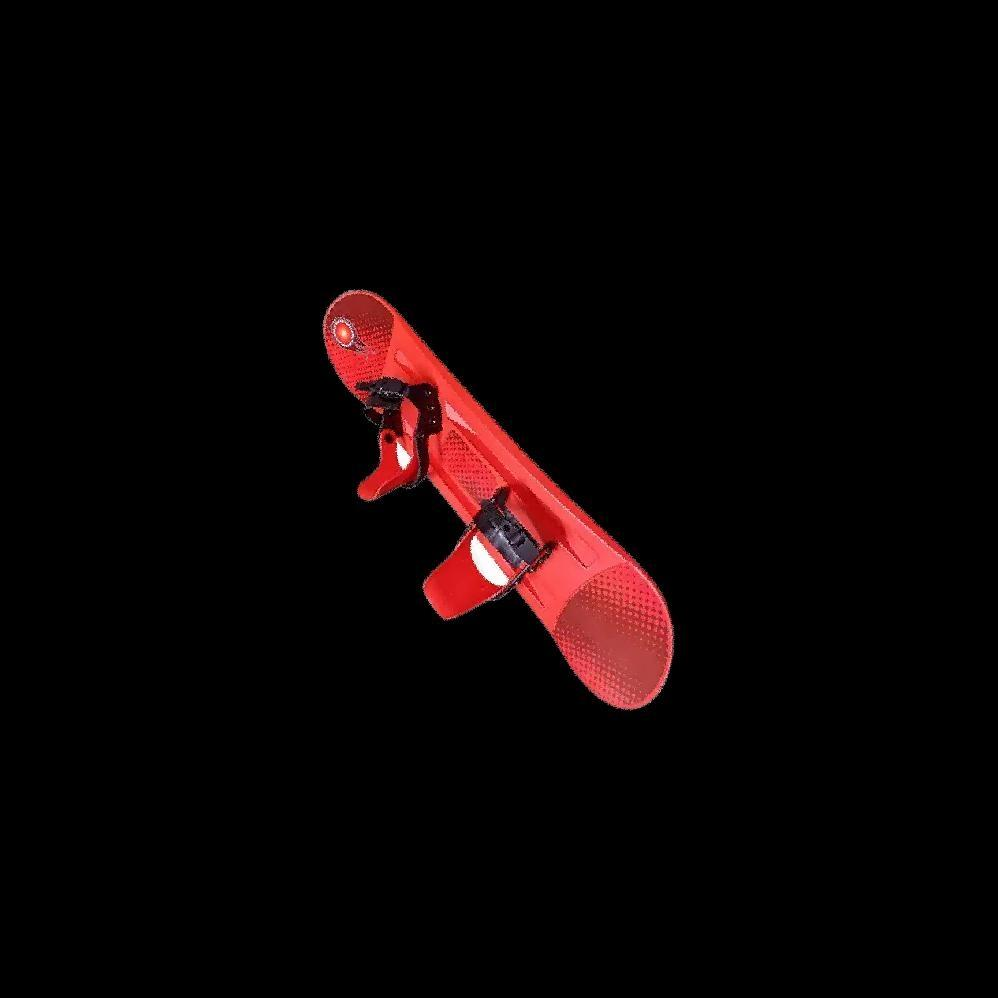Snowboard: (321, 286, 675, 711)
